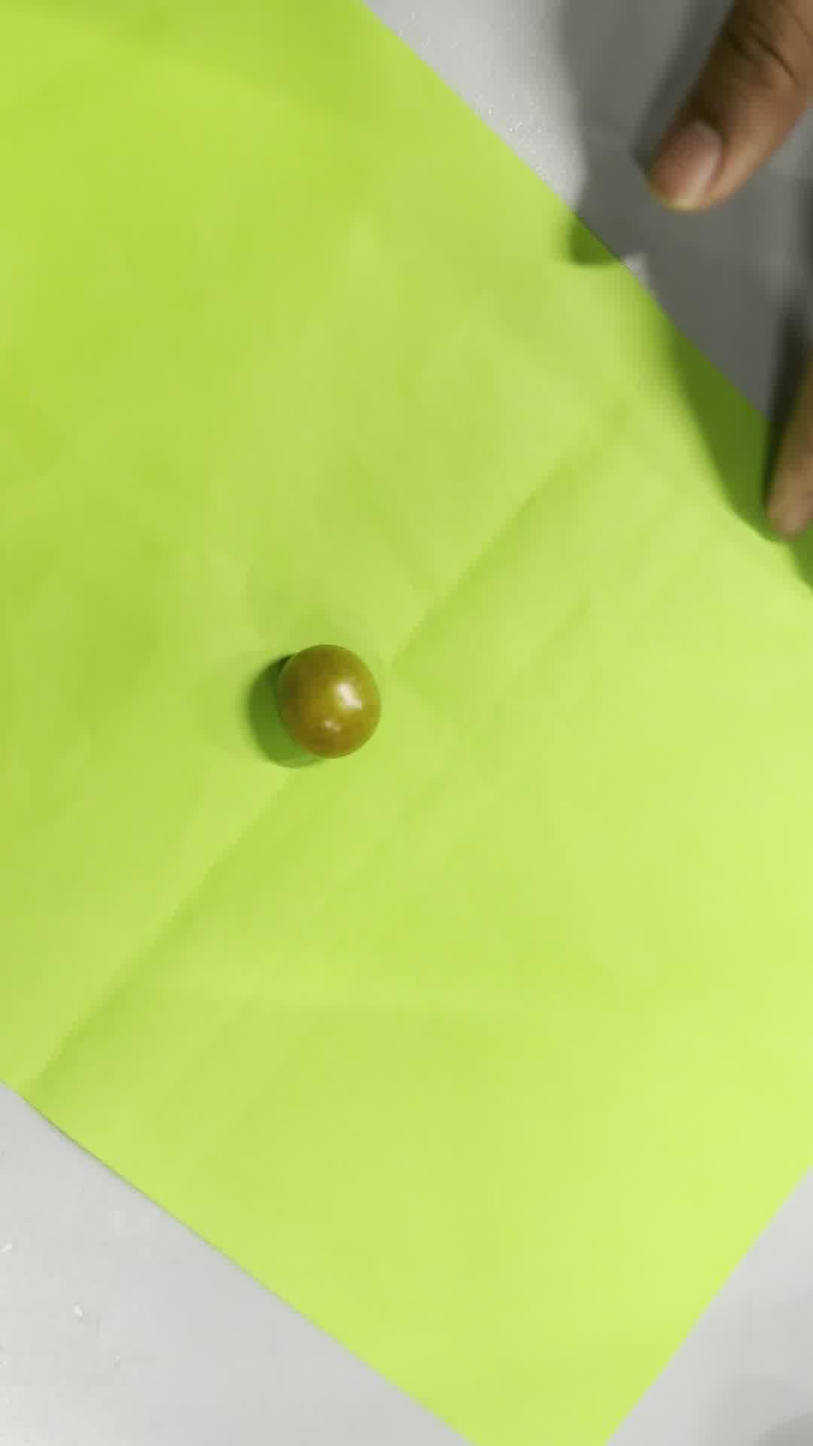yellow_cherry_tomato: (276, 645, 380, 758)
